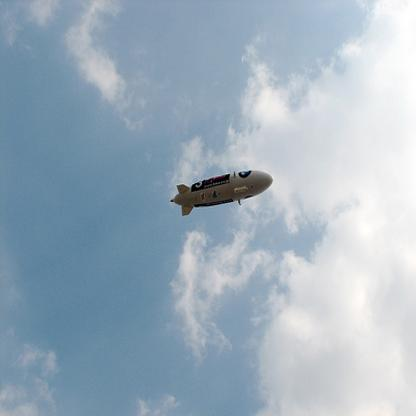Airship: (167, 165, 276, 225)
